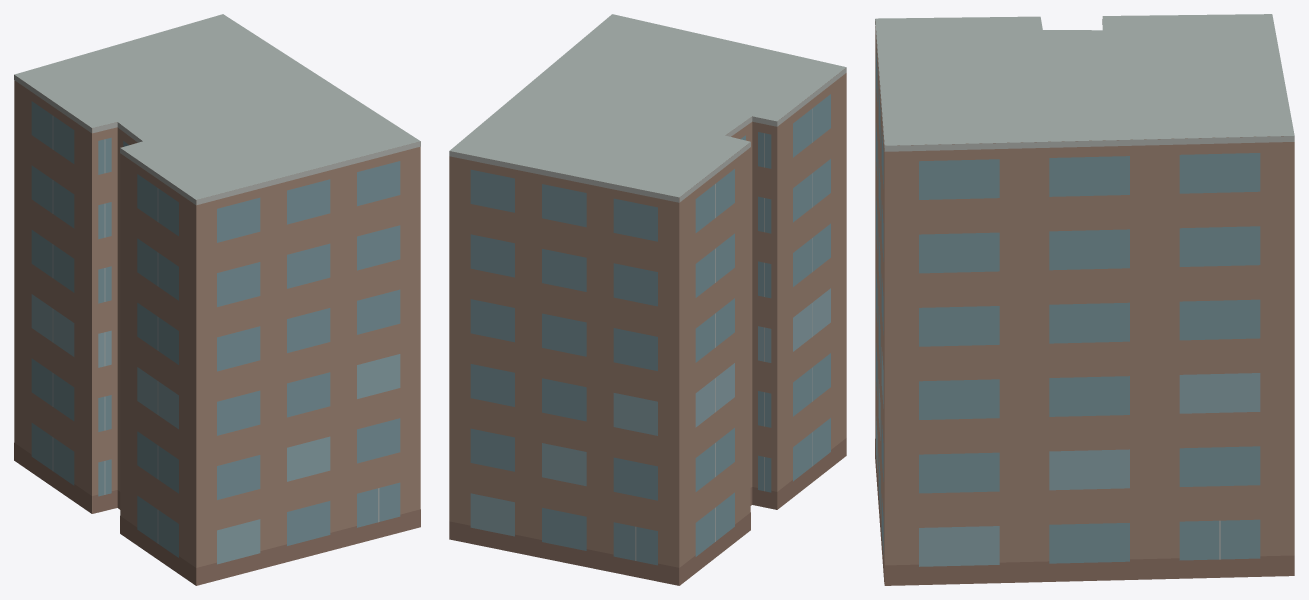
Rendered from survey-upis-33028755.glb.
The picture shows the model from 3 angles, left to right: view 1: azimuth 30°, elevation 25°; view 2: azimuth 150°, elevation 25°; view 3: azimuth 270°, elevation 25°; orthographic projection. The views are drawn at different scales.
Parts seen in each view (by area): view 1: survey-upis-33028755.tmp; view 2: survey-upis-33028755.tmp; view 3: survey-upis-33028755.tmp.
Part boxes in pixels (x1,y1,x2,y2): survey-upis-33028755.tmp: (14,14,420,585); survey-upis-33028755.tmp: (449,14,846,585); survey-upis-33028755.tmp: (875,14,1294,585).
Size of the model in its own units: 11.37 by 17.7 by 15.3.
